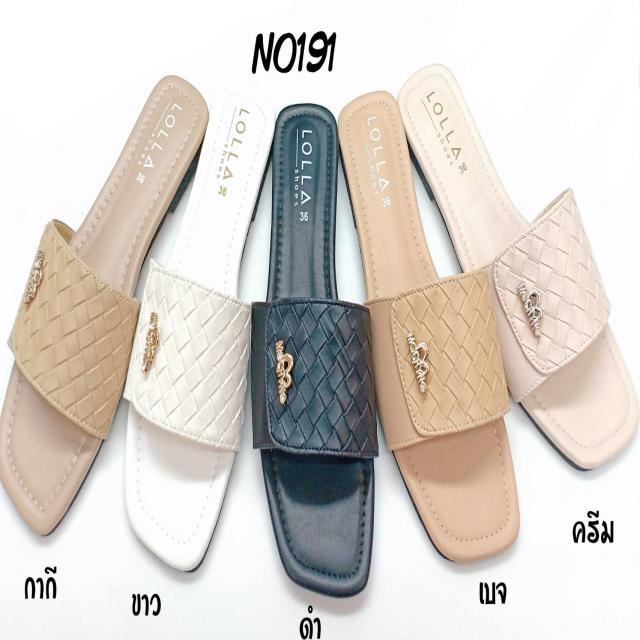bej: (340, 70, 518, 555)
black: (252, 102, 382, 594)
cream: (362, 66, 634, 468)
kakee: (0, 71, 206, 535)
white: (119, 63, 275, 583)
